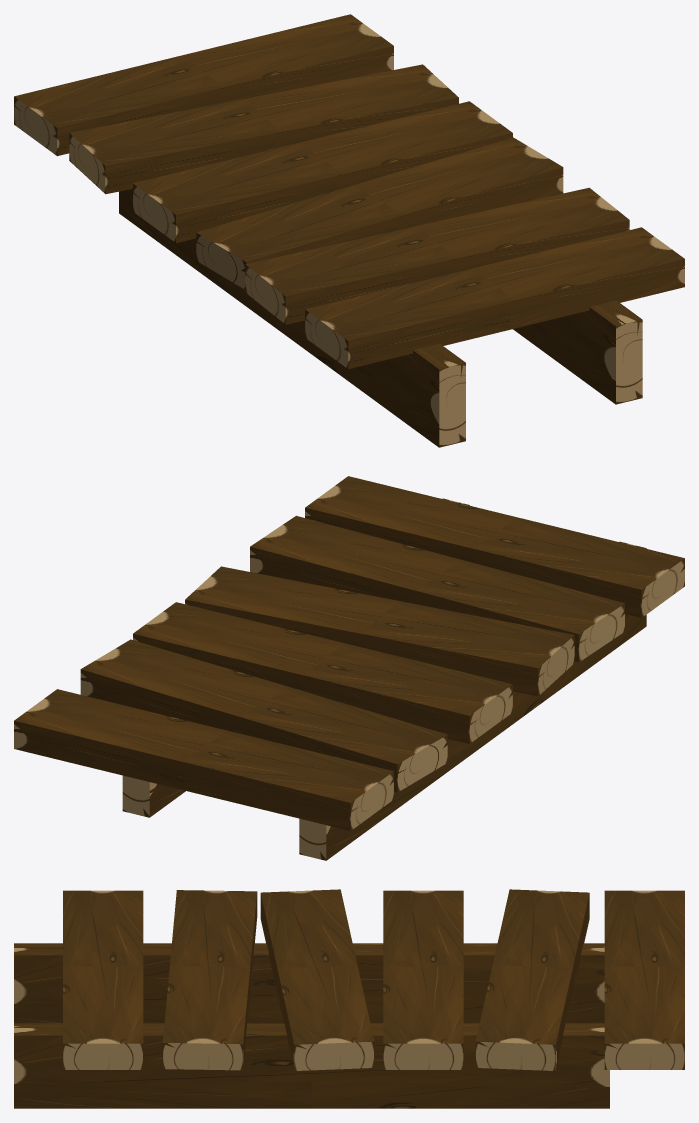
Rendered from Bridge.fbx.
3 renders of one model, top to bottom at view 1: azimuth 30°, elevation 25°; view 2: azimuth 150°, elevation 25°; view 3: azimuth 270°, elevation 25°, orthographic. The views are drawn at different scales.
Parts seen in each view (by area): view 1: Cube; view 2: Cube; view 3: Cube.
Boxes of the visible parts, box(x1,y1,x2,y2) form: Cube: box(14, 14, 684, 447); Cube: box(14, 476, 684, 860); Cube: box(14, 889, 684, 1108).
Size of the model in its own units: 3.93 by 1.13 by 7.17.
